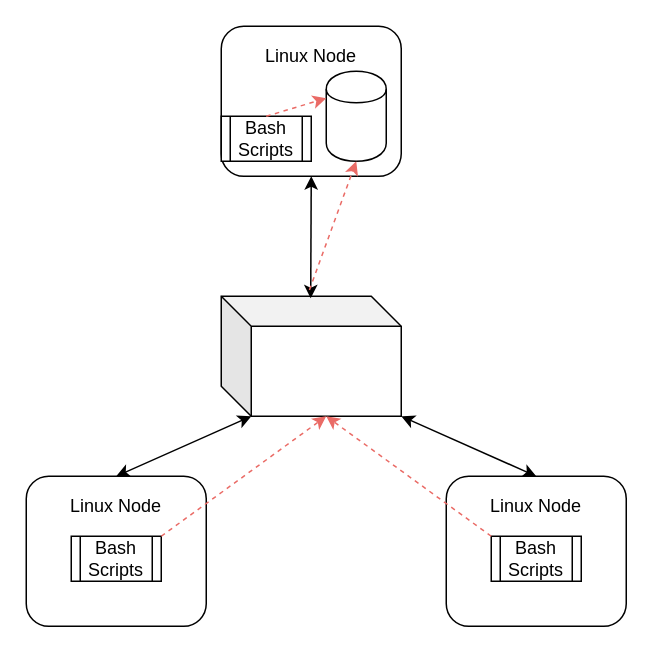
The diagram is 653 pixels wide and 653 high, and some of its shapes have lost their labels. Each missing label, with the box of its shape:
Network Switch: (220, 295, 401, 416)
PSQL: (325, 70, 386, 161)
